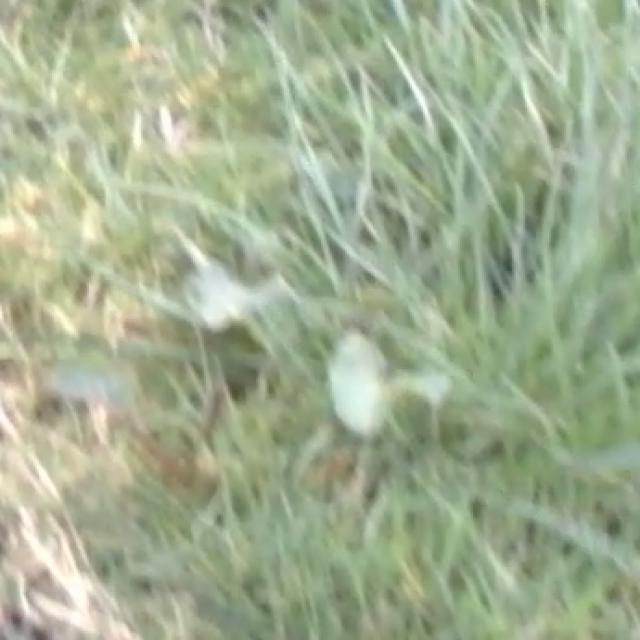organic waste: (84, 209, 492, 484)
